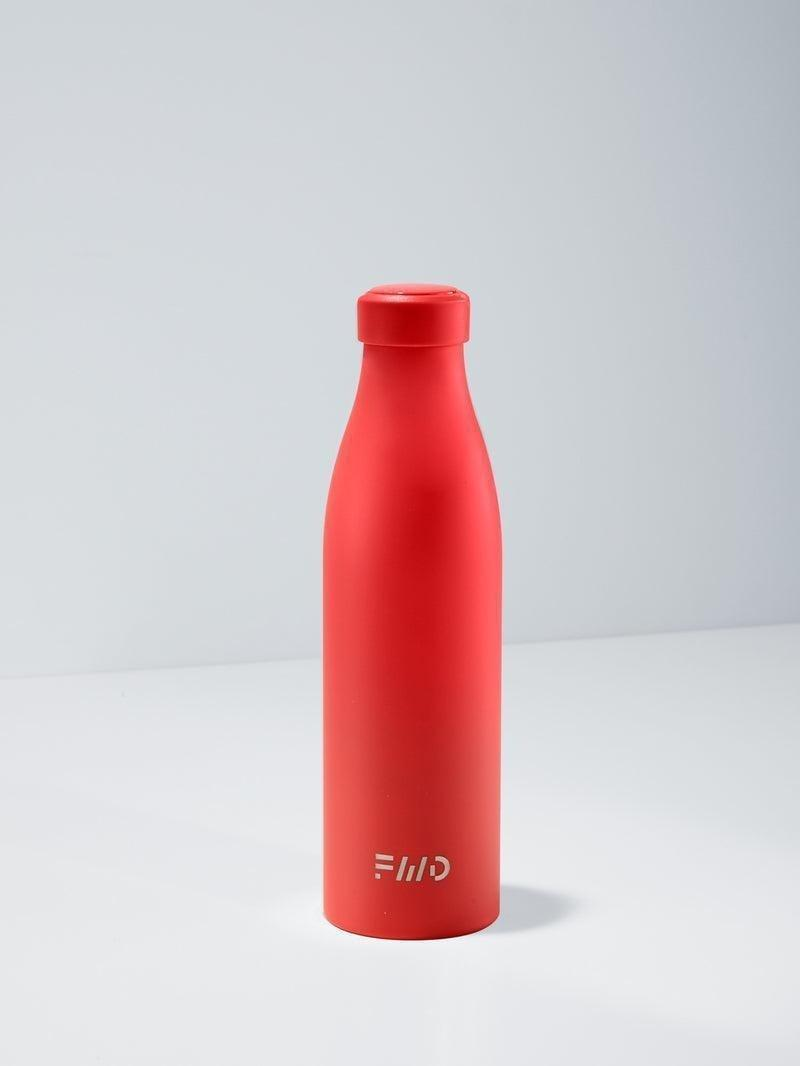gym bottle: (314, 276, 510, 946)
